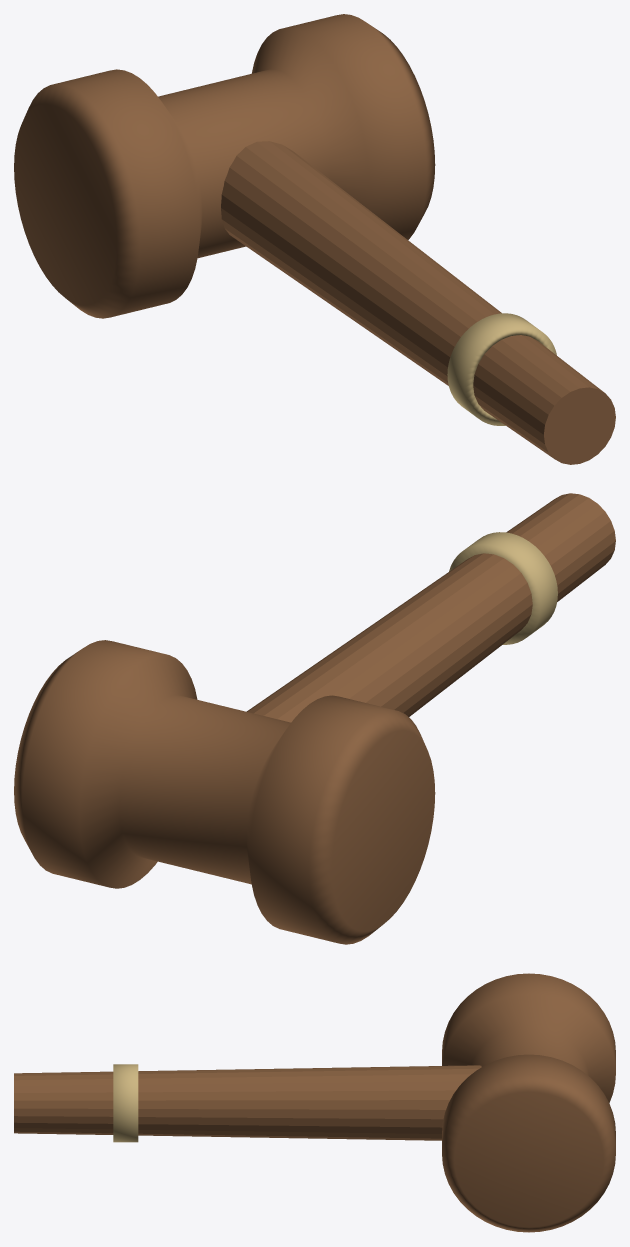
File: city-courthouse-and-records-office-city-courthouse-and-f10e85b5__30974.glb
3 views of the same model, one above another, from view 1: azimuth 30°, elevation 25°; view 2: azimuth 150°, elevation 25°; view 3: azimuth 270°, elevation 25° (orthographic). The views are drawn at different scales.
Visible parts, largest first — view 1: city-courthouse-and-records-office-gavel; view 2: city-courthouse-and-records-office-gavel; view 3: city-courthouse-and-records-office-gavel.
Part boxes in pixels (x1=…): city-courthouse-and-records-office-gavel: x1=14, y1=14, x2=615, y2=464; city-courthouse-and-records-office-gavel: x1=14, y1=493, x2=615, y2=944; city-courthouse-and-records-office-gavel: x1=14, y1=973, x2=615, y2=1232.
Size of the model in its own units: 0.15 by 0.098 by 0.339.
